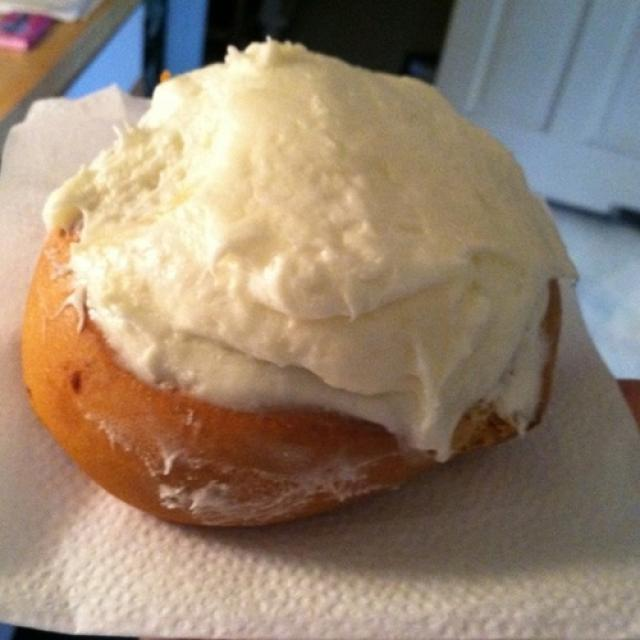炸货点心: (22, 52, 613, 544)
